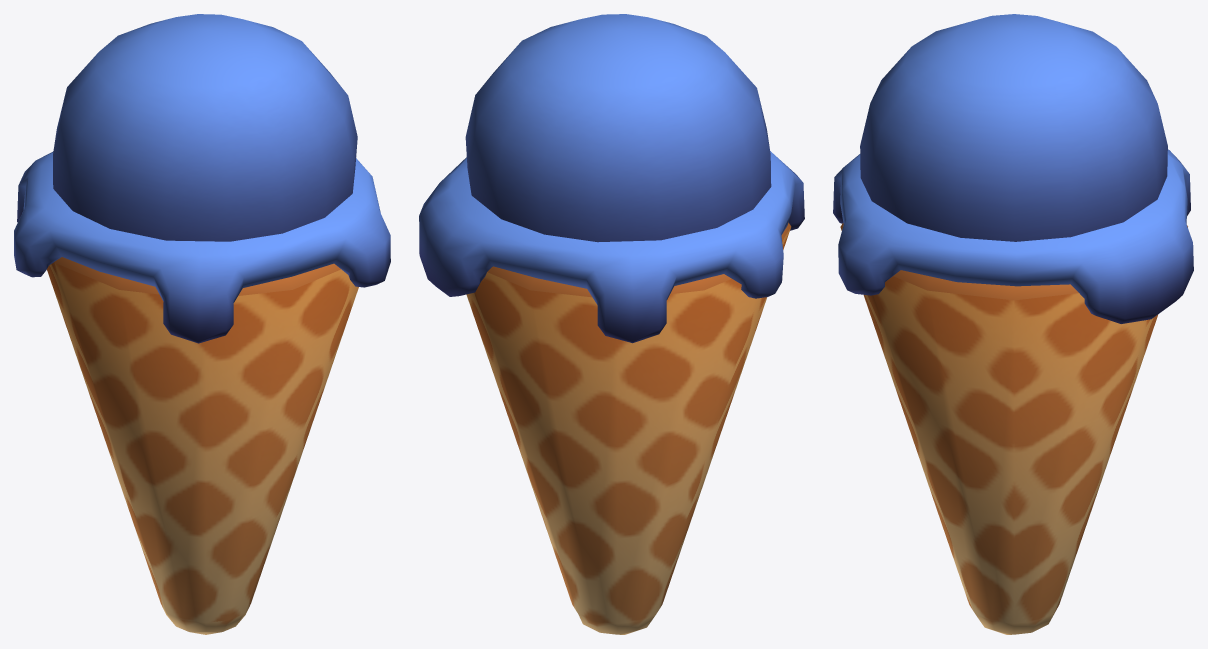
File: m_IceCream06.fbx
The picture shows the model from 3 angles, left to right: view 1: azimuth 30°, elevation 25°; view 2: azimuth 150°, elevation 25°; view 3: azimuth 270°, elevation 25°; orthographic projection.
Parts seen in each view (by area): view 1: m_IceCream06; view 2: m_IceCream06; view 3: m_IceCream06.
Boxes of the visible parts, left/top/right/bottom form: m_IceCream06: left=14, top=14, right=390, bottom=634; m_IceCream06: left=419, top=14, right=804, bottom=634; m_IceCream06: left=833, top=14, right=1193, bottom=634.
Bounding box in the file's own units: 9.64 × 16.94 × 9.25.
